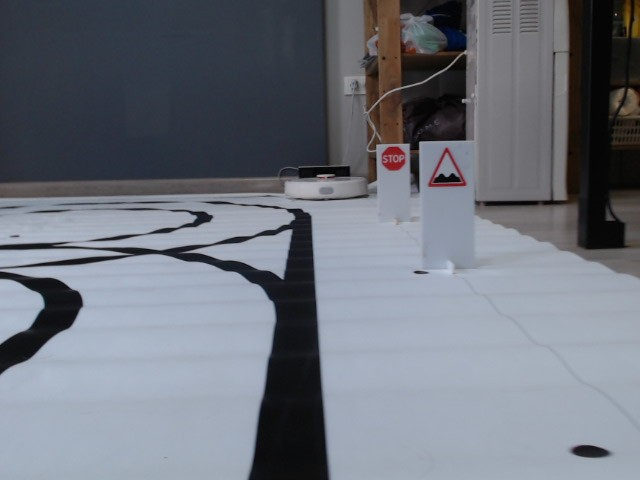Nerov: (427, 147, 467, 185)
Stop: (381, 146, 406, 172)
